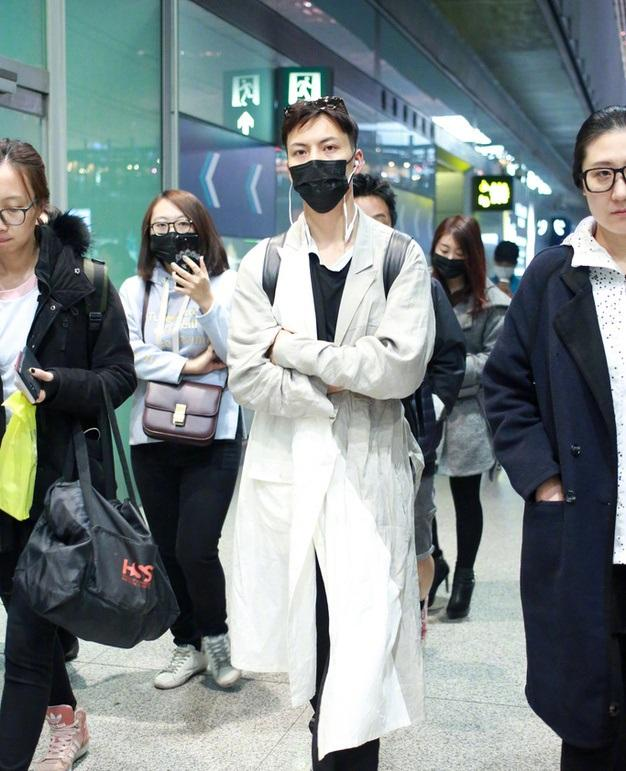face: (583, 132, 625, 233), (1, 170, 32, 257)
face_mask: (288, 119, 349, 208), (150, 202, 196, 268), (434, 234, 468, 286)
